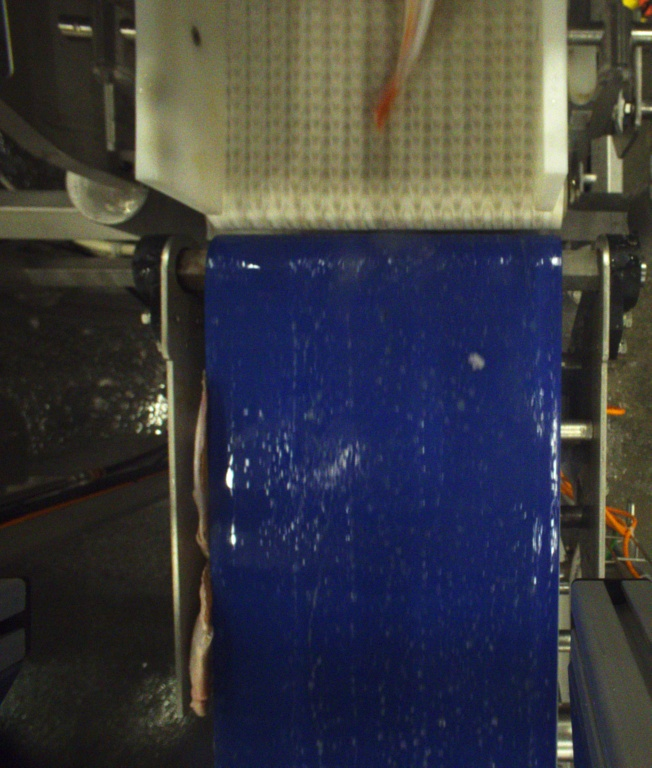GUU: (372, 1, 435, 127)
